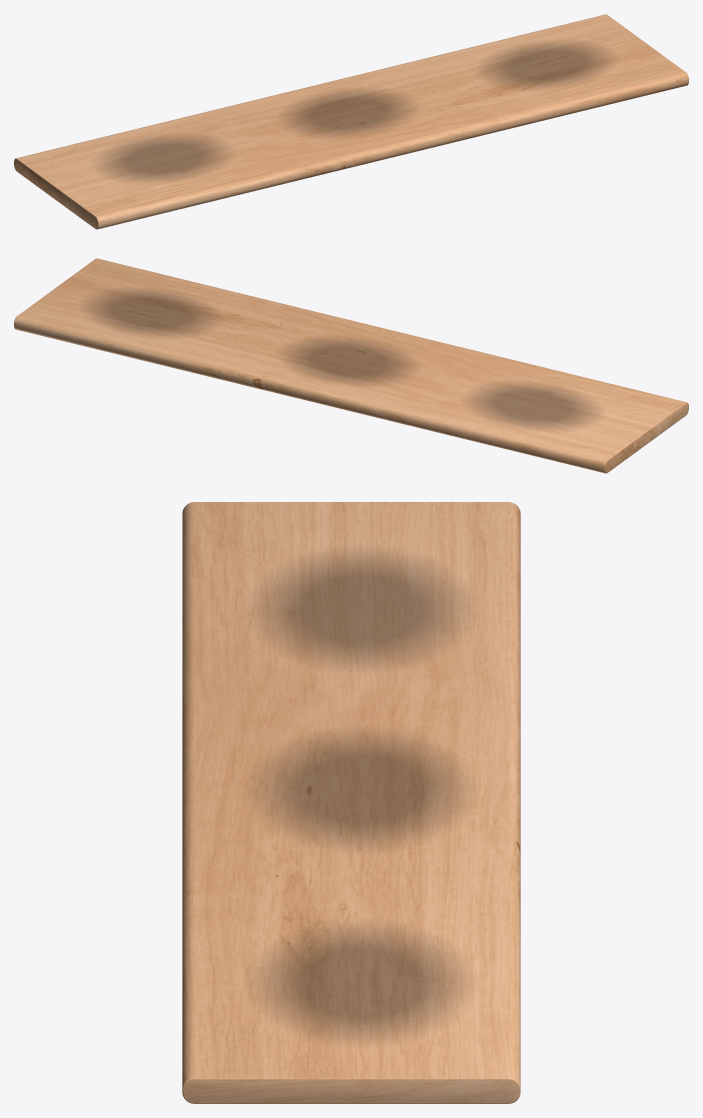
The model's file is shelf_plank.fbx.
3 renders of one model, top to bottom at view 1: azimuth 30°, elevation 25°; view 2: azimuth 150°, elevation 25°; view 3: azimuth 270°, elevation 25°, orthographic. The views are drawn at different scales.
Parts seen in each view (by area): view 1: Cube; view 2: Cube; view 3: Cube.
Part boxes in pixels (left/top/right/bottom): Cube: left=14, top=14, right=688, bottom=229; Cube: left=14, top=258, right=688, bottom=473; Cube: left=182, top=502, right=520, bottom=1103.
Size of the model in its own units: 807 by 17.02 by 200.
